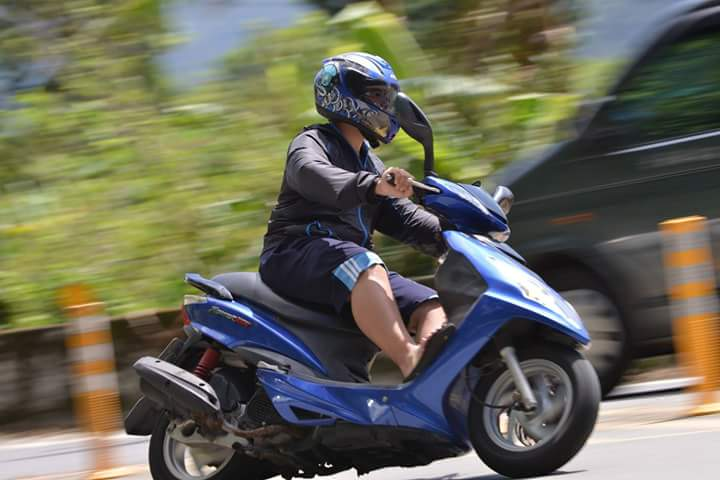helmet: (307, 52, 400, 132)
